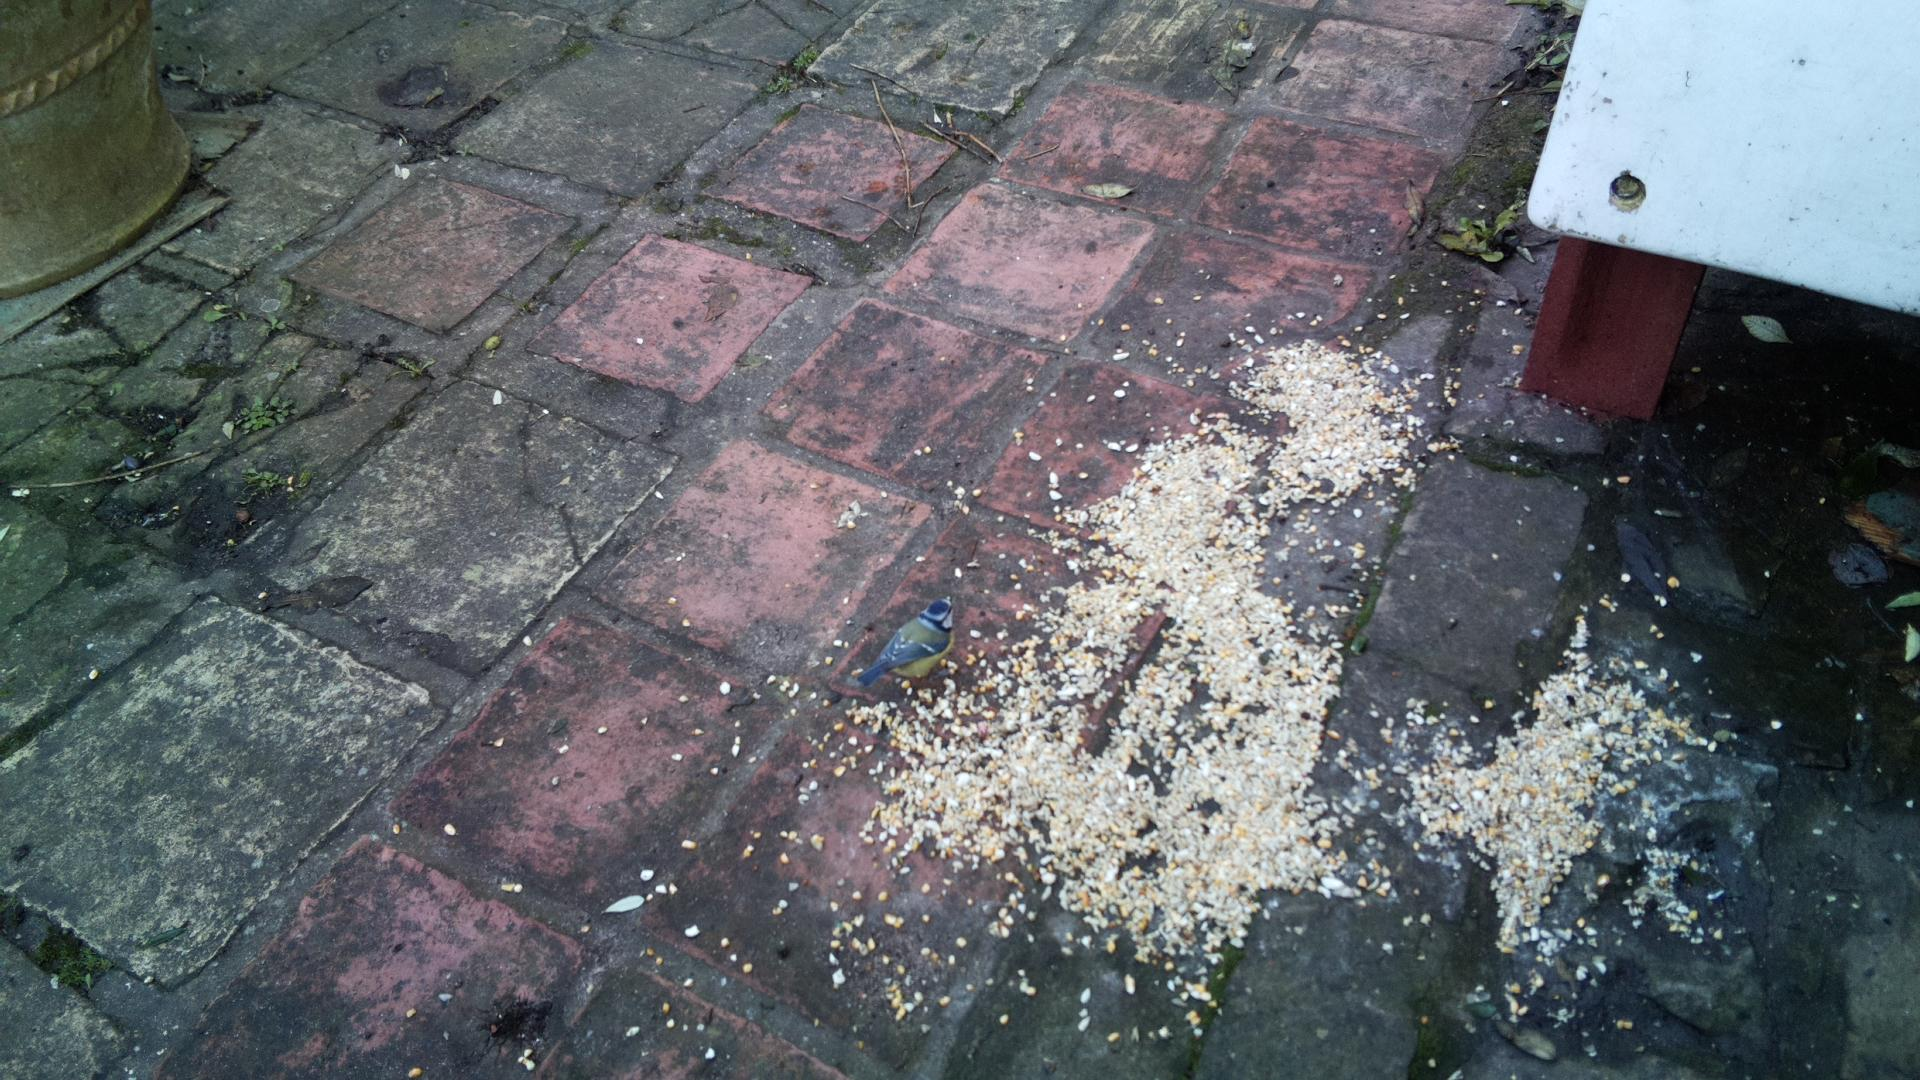blue tit: (856, 592, 956, 687)
